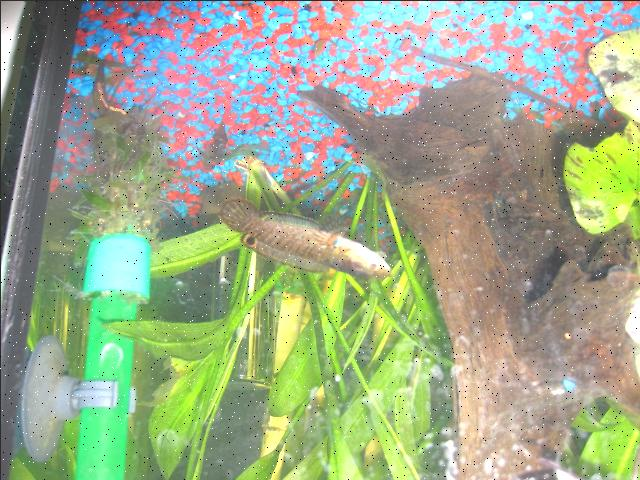Mulut: (366, 248, 396, 281)
Sirip Anal: (256, 210, 320, 234)
Sirip Dada: (309, 212, 349, 252)
Sirip Ekor: (216, 193, 260, 237)
Sirip Punggung: (234, 231, 324, 273)
